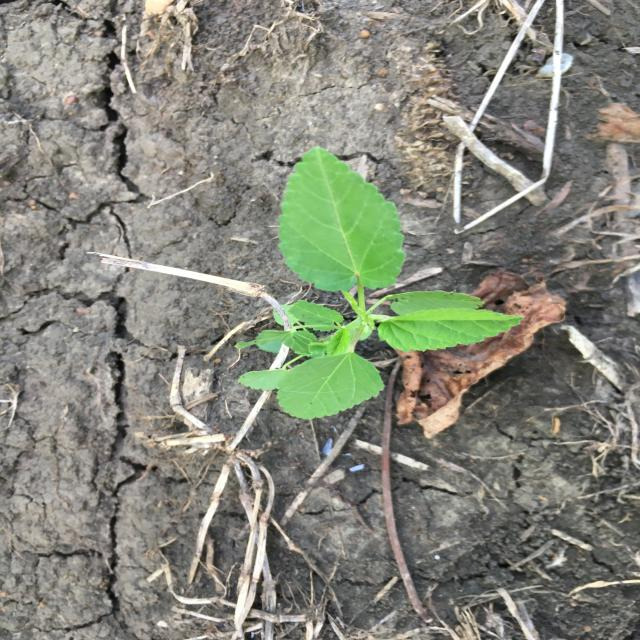PricklySida: (232, 145, 528, 421)
